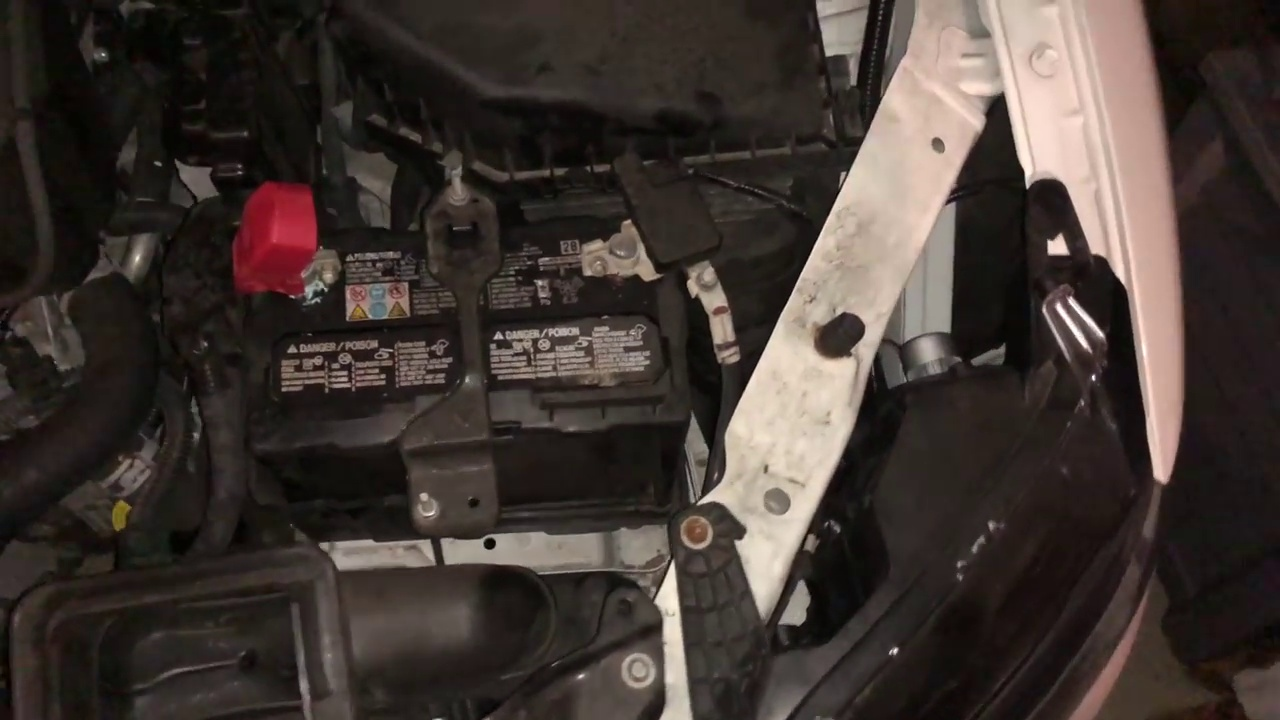battery: (215, 206, 731, 470)
neg_connected: (555, 165, 735, 332)
pos_connected: (240, 192, 361, 311)
